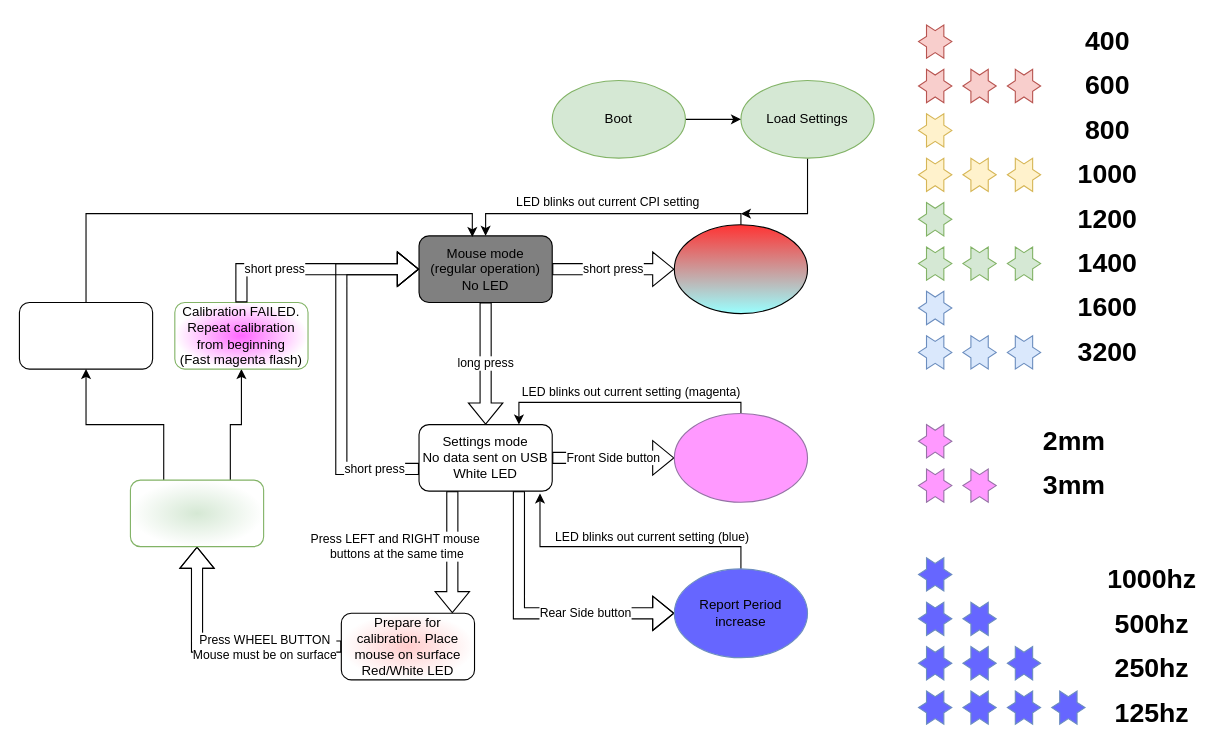
This 1227x754 diagram has some shape labels left out. Each missing label, with the centre of its shape:
"Calibration PASSED Automatic return to mouse mode" goes at [85,335].
"Calibration running. Move the mouse 20 inches in 20 seconds Green/White LED" goes at [196,513].
"CPI increase" goes at [740,269].
"liftoff toggle ( 2 or 3)" goes at [740,457].
